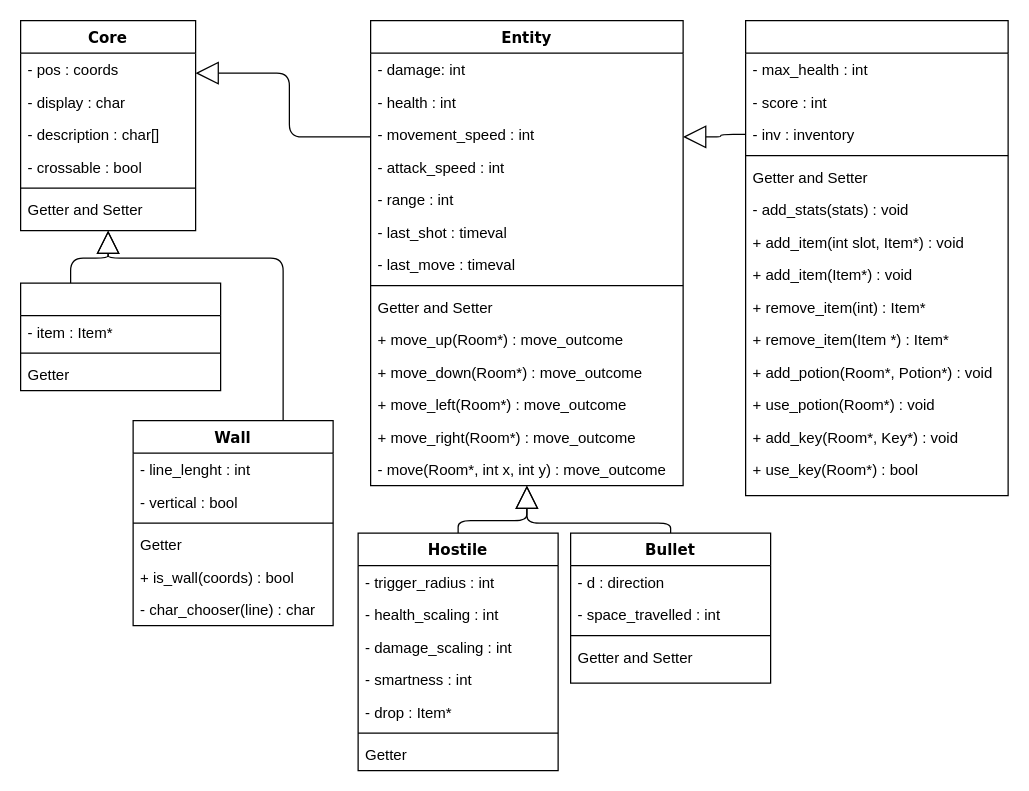
This 1029x791 diagram has some shape labels left out. The box of each missing label's shape, as (x1, y1, x2, y2) in pixels:
ItemOnGround: (19, 282, 221, 391)
Player: (744, 19, 1008, 496)
